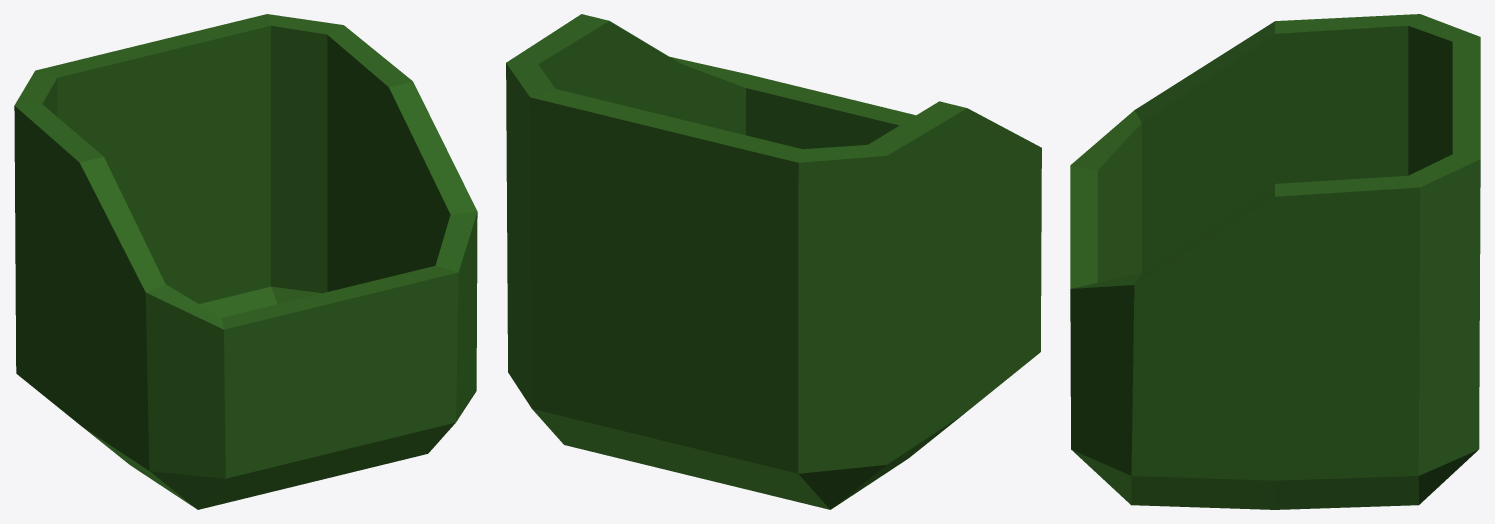
Rendered from ScrewHolder4.fbx.
3 renders of one model, left to right at view 1: azimuth 30°, elevation 25°; view 2: azimuth 150°, elevation 25°; view 3: azimuth 270°, elevation 25°, orthographic. The views are drawn at different scales.
Visible parts, largest first — view 1: ScrewHolder.004; view 2: ScrewHolder.004; view 3: ScrewHolder.004.
Part boxes in pixels (x1,y1,x2,y2): ScrewHolder.004: (14, 14, 477, 509); ScrewHolder.004: (506, 14, 1041, 509); ScrewHolder.004: (1070, 14, 1480, 509).
Bounding box in the file's own units: 47.97 × 47.37 × 44.7.
